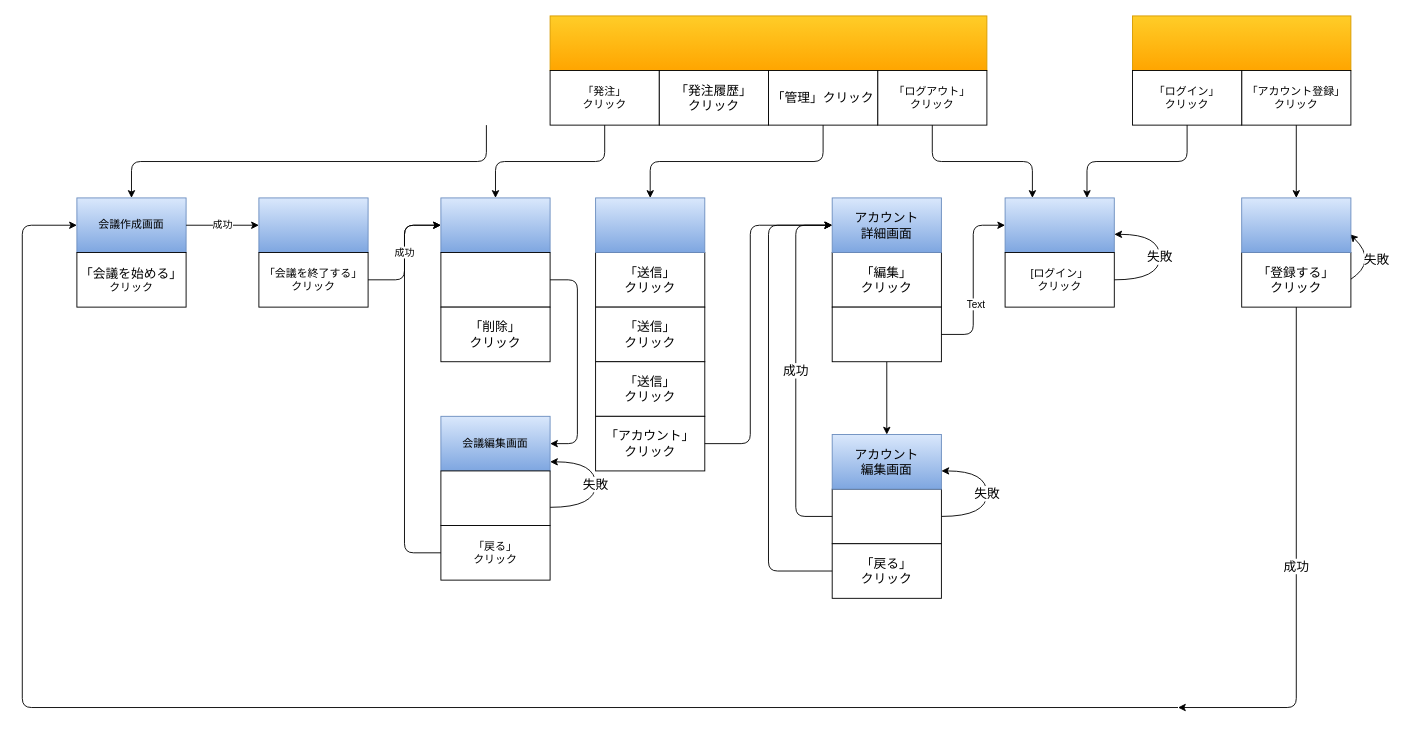
The diagram is 1405 pixels wide and 731 high, and some of its shapes have lost their labels. The centre of each missing label's shape, as x and y in pixels:
"[更新」 クリック" belongs at point (886, 516).
"「会議編集」 クリック" belongs at point (495, 279).
"「更新」 クリック" belongs at point (495, 498).
"「退会」 クリック" belongs at point (886, 334).
"アカウント 登録画面" belongs at point (1296, 225).
"アーカイブ画面" belongs at point (495, 225).
"グローバルナビゲーション （ログアウト中）" belongs at point (1241, 43).
"グローバルナビゲーション（ログイン中）" belongs at point (768, 43).
"ログイン画面" belongs at point (1059, 225).
"会議進行中画面" belongs at point (313, 225).
"管理選択画面" belongs at point (650, 225).
